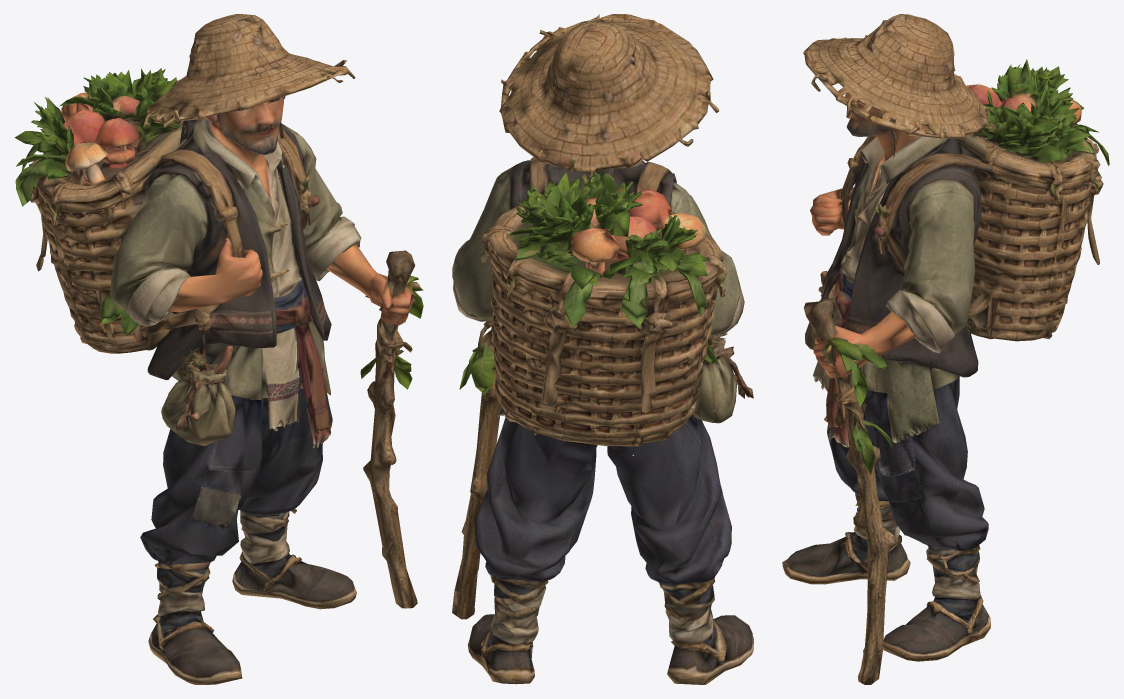
The model's file is forager-guide.glb.
The picture shows the model from 3 angles, left to right: view 1: azimuth 30°, elevation 25°; view 2: azimuth 150°, elevation 25°; view 3: azimuth 270°, elevation 25°; orthographic projection. The views are drawn at different scales.
Parts seen in each view (by area): view 1: tripo_node_72fcadf3-d565-4816-8d1d-e707ec0f77f3; view 2: tripo_node_72fcadf3-d565-4816-8d1d-e707ec0f77f3; view 3: tripo_node_72fcadf3-d565-4816-8d1d-e707ec0f77f3.
Boxes of the visible parts, box(x1,y1,x2,y2) form: tripo_node_72fcadf3-d565-4816-8d1d-e707ec0f77f3: box(14, 14, 423, 684); tripo_node_72fcadf3-d565-4816-8d1d-e707ec0f77f3: box(452, 14, 753, 684); tripo_node_72fcadf3-d565-4816-8d1d-e707ec0f77f3: box(782, 14, 1109, 684).
Bounding box in the file's own units: 0.5389 × 0.9774 × 0.4893.
1 material, 1 textured.
